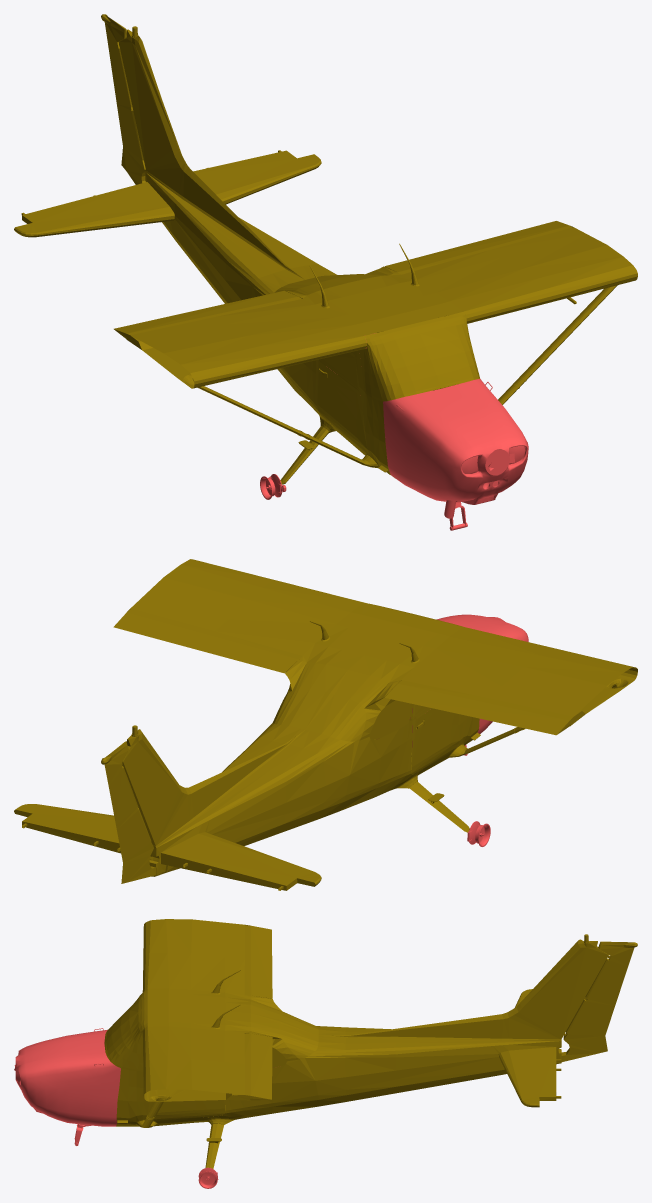
File: body2.obj
The picture shows the model from 3 angles, top to bottom: view 1: azimuth 30°, elevation 25°; view 2: azimuth 150°, elevation 25°; view 3: azimuth 270°, elevation 25°; orthographic projection. The views are drawn at different scales.
Parts seen in each view (by area): view 1: group1 body2:avion1polySurface10, body:prednji_deo, group1 body2:group1avion1polySurface48, group1 body2:avion1polySurface27, group1 body2:avion1polySurface16, group1 body2:avion1polySurface21, group1 body2:avion1polySurface20, group1 body2:avion1polySurface17, body2:avion1polySurface14 group1, group1 body2:polySurface49group1avion1, group1 body2:avion1polySurface26; view 2: group1 body2:avion1polySurface10, group1 body2:group1avion1polySurface48, group1 body2:avion1polySurface16, group1 body2:avion1polySurface21, body2:avion1polySurface14 group1, group1 body2:polySurface49group1avion1, group1 body2:avion1polySurface17, group1 body2:avion1polySurface20, body:prednji_deo, group1 body2:avion1polySurface24, group1 body2:avion1polySurface23, group1 body2:avion1polySurface25 (+1 smaller); view 3: group1 body2:avion1polySurface10, body:prednji_deo, group1 body2:avion1polySurface16, group1 body2:group1avion1polySurface48, group1 body2:avion1polySurface17, group1 body2:avion1polySurface20, group1 body2:avion1polySurface27, group1 body2:polySurface49group1avion1, body2:avion1polySurface14 group1, group1 body2:avion1polySurface23, group1 body2:avion1polySurface18.
Part boxes in pixels (x1=…): group1 body2:avion1polySurface10: x1=145, y1=170, x2=637, y2=474; body:prednji_deo: x1=260, y1=333, x2=528, y2=530; group1 body2:group1avion1polySurface48: x1=126, y1=299, x2=366, y2=388; group1 body2:avion1polySurface27: x1=359, y1=311, x2=479, y2=401; group1 body2:avion1polySurface16: x1=118, y1=29, x2=300, y2=276; group1 body2:avion1polySurface21: x1=14, y1=182, x2=174, y2=237; group1 body2:avion1polySurface20: x1=193, y1=150, x2=321, y2=204; group1 body2:avion1polySurface17: x1=101, y1=14, x2=145, y2=184; body2:avion1polySurface14 group1: x1=385, y1=221, x2=572, y2=274; group1 body2:polySurface49group1avion1: x1=114, y1=290, x2=301, y2=340; group1 body2:avion1polySurface26: x1=319, y1=352, x2=357, y2=388; group1 body2:avion1polySurface10: x1=127, y1=559, x2=627, y2=876; group1 body2:group1avion1polySurface48: x1=402, y1=627, x2=637, y2=726; group1 body2:avion1polySurface16: x1=122, y1=729, x2=299, y2=845; group1 body2:avion1polySurface21: x1=161, y1=832, x2=321, y2=890; body2:avion1polySurface14 group1: x1=113, y1=609, x2=302, y2=673; group1 body2:polySurface49group1avion1: x1=384, y1=680, x2=580, y2=735; group1 body2:avion1polySurface17: x1=101, y1=741, x2=155, y2=883; group1 body2:avion1polySurface20: x1=14, y1=804, x2=155, y2=853; body:prednji_deo: x1=409, y1=614, x2=528, y2=846; group1 body2:avion1polySurface24: x1=309, y1=695, x2=365, y2=741; group1 body2:avion1polySurface23: x1=272, y1=689, x2=324, y2=728; group1 body2:avion1polySurface25: x1=369, y1=700, x2=410, y2=739; group1 body2:avion1polySurface10: x1=116, y1=988, x2=561, y2=1127; body:prednji_deo: x1=14, y1=1028, x2=218, y2=1188; group1 body2:avion1polySurface16: x1=325, y1=939, x2=608, y2=1039; group1 body2:group1avion1polySurface48: x1=142, y1=919, x2=249, y2=995; group1 body2:avion1polySurface17: x1=561, y1=941, x2=637, y2=1061; group1 body2:avion1polySurface20: x1=498, y1=1047, x2=556, y2=1107; group1 body2:avion1polySurface27: x1=104, y1=989, x2=147, y2=1071; group1 body2:polySurface49group1avion1: x1=244, y1=925, x2=272, y2=998; body2:avion1polySurface14 group1: x1=233, y1=1033, x2=272, y2=1100; group1 body2:avion1polySurface23: x1=279, y1=1023, x2=318, y2=1059; group1 body2:avion1polySurface18: x1=205, y1=1123, x2=223, y2=1168.
Bounding box in the file's own units: 202 × 117 × 313.
